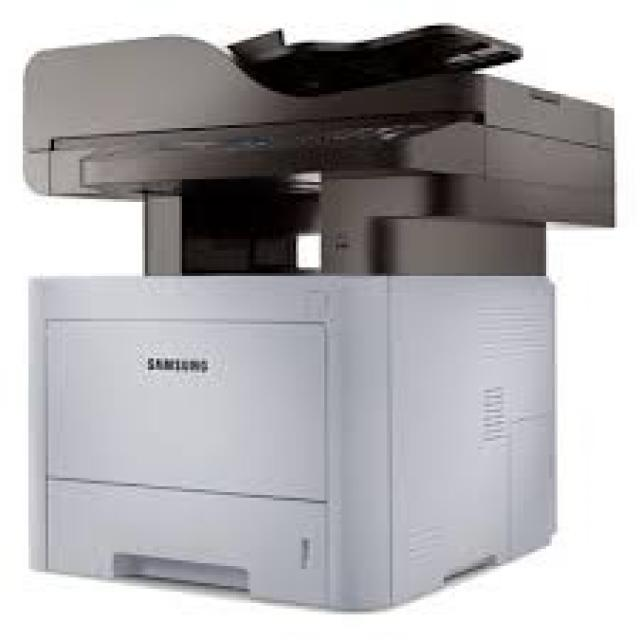printer: (21, 20, 620, 602)
